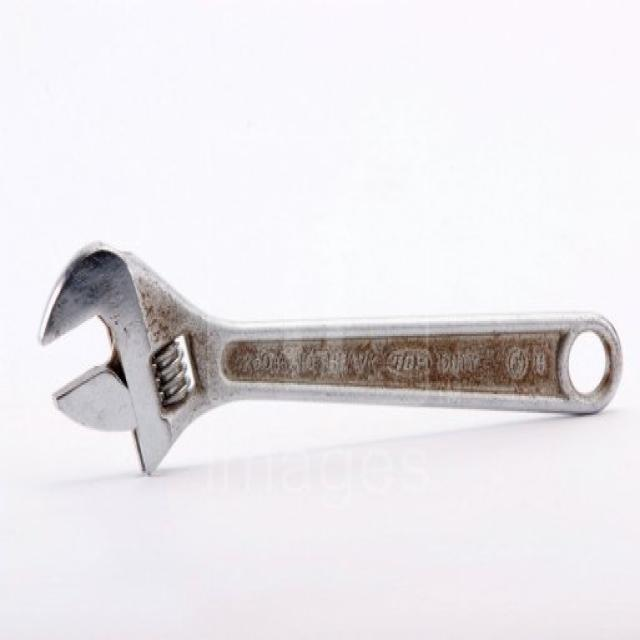wrench: (33, 211, 640, 482)
